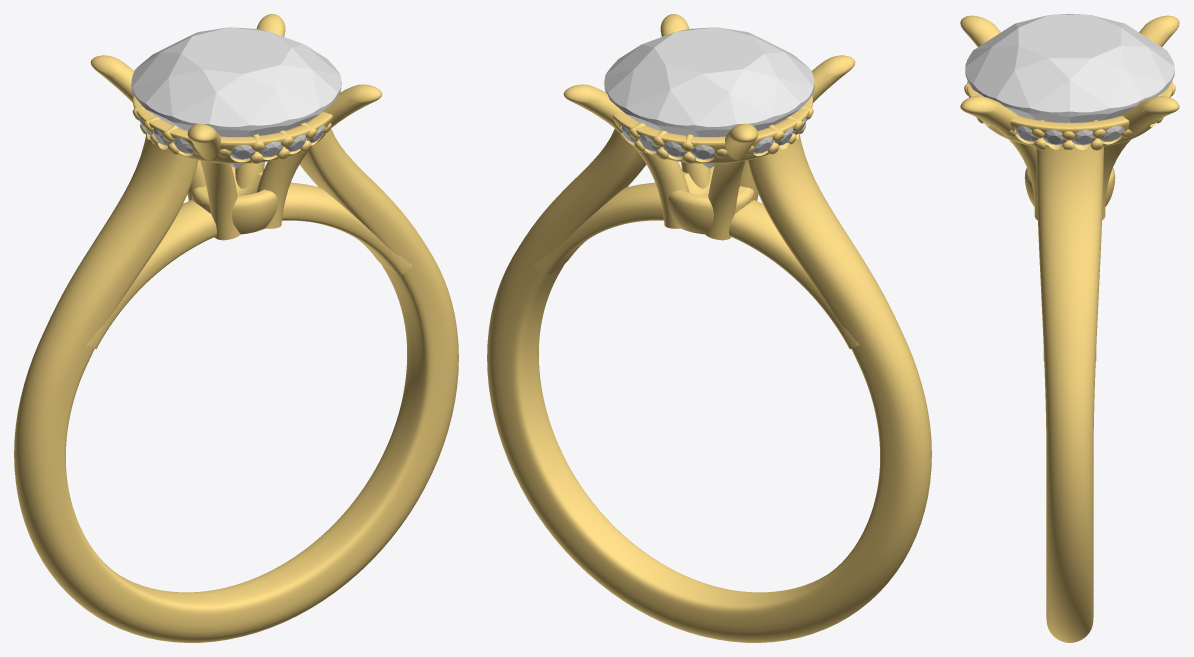
The model's file is ZachV2eng_blender.glb.
The picture shows the model from 3 angles, left to right: view 1: azimuth 30°, elevation 25°; view 2: azimuth 150°, elevation 25°; view 3: azimuth 270°, elevation 25°; orthographic projection.
Visible parts, largest first — view 1: V2 Zach YG for 3d model, V2 Zach dia for 3d model.016; view 2: V2 Zach YG for 3d model, V2 Zach dia for 3d model.016; view 3: V2 Zach YG for 3d model, V2 Zach dia for 3d model.016.
Part boxes in pixels (<box>): V2 Zach YG for 3d model: <box>14,14,458,642</box>; V2 Zach dia for 3d model.016: <box>131,27,341,168</box>; V2 Zach YG for 3d model: <box>487,14,931,642</box>; V2 Zach dia for 3d model.016: <box>604,27,814,168</box>; V2 Zach YG for 3d model: <box>960,15,1179,642</box>; V2 Zach dia for 3d model.016: <box>965,14,1174,122</box>.
Size of the model in its own units: 19.28 by 24.55 by 8.37.
